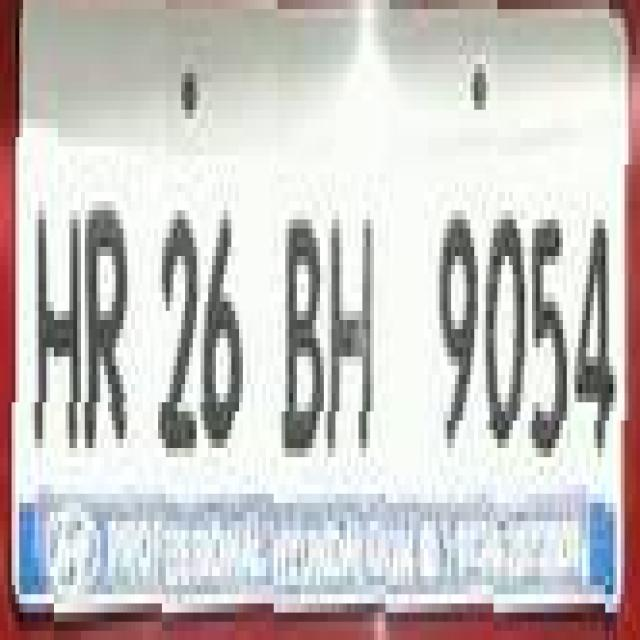license_plate: (0, 28, 617, 585)
